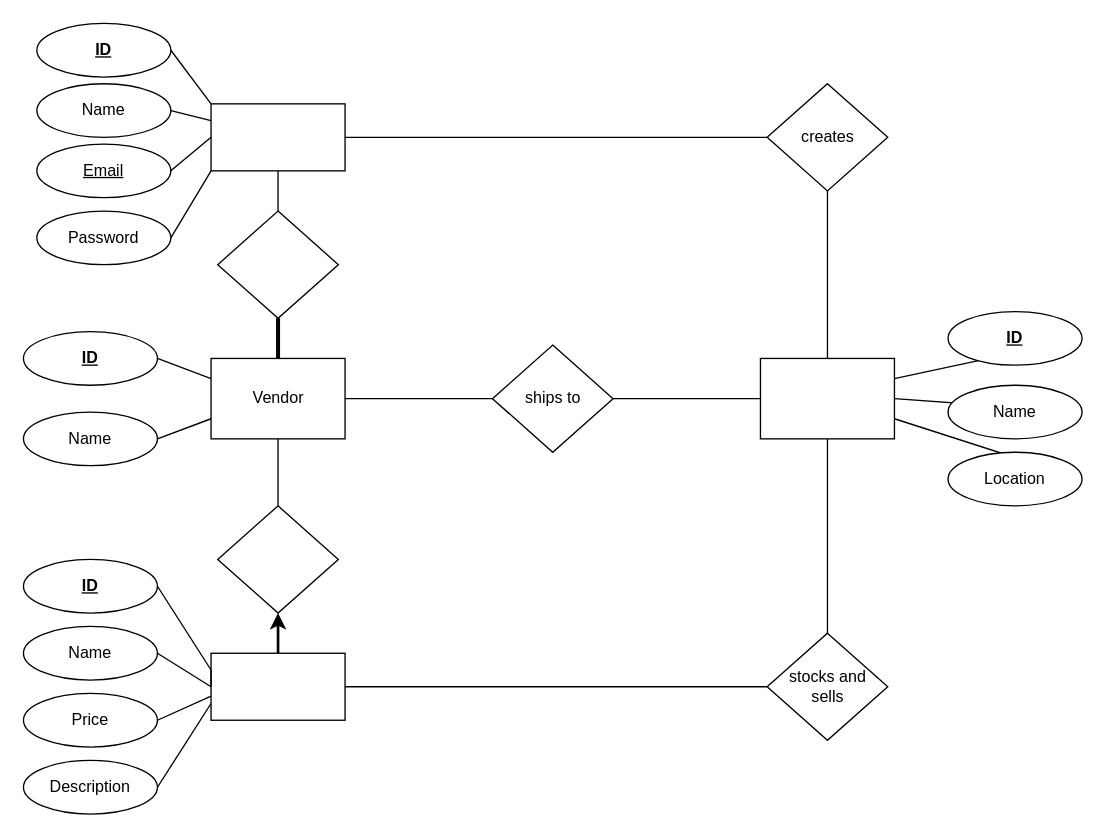
This 1107x838 diagram has some shape labels left out. Here are the shapes that lost their labels. From the top down, the centre of each, then its label:
At (277,137): "Member".
At (277,264): "manages/ owns".
At (826,398): "Store".
At (277,559): "makes".
At (277,686): "Product".
